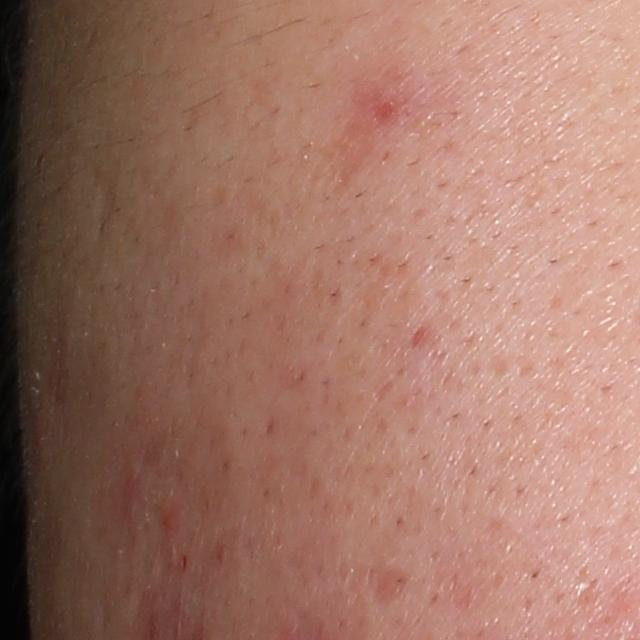atrophic_scar: (91, 164, 121, 239), (372, 558, 409, 607)
papule: (159, 505, 189, 543)
